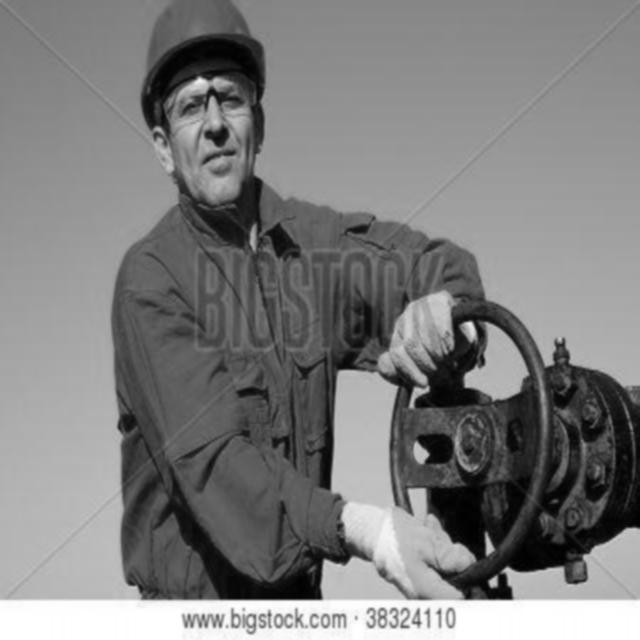head: (111, 2, 492, 596), (125, 2, 285, 226)
